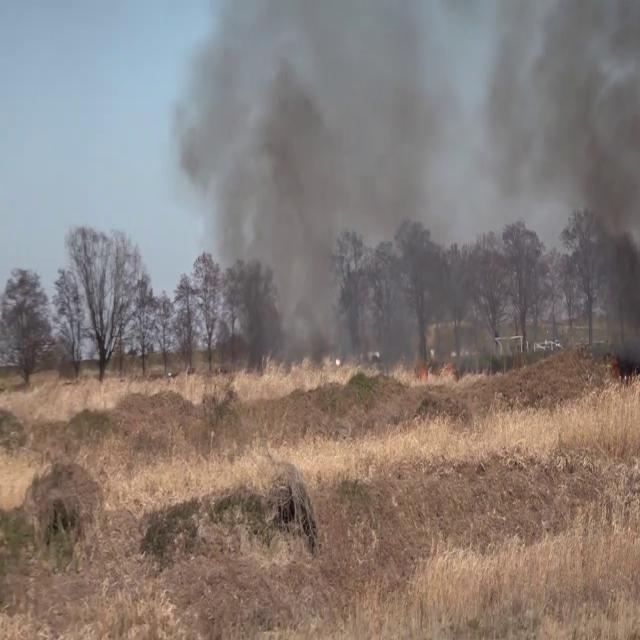Smoke: (180, 0, 484, 373), (519, 1, 640, 363)
